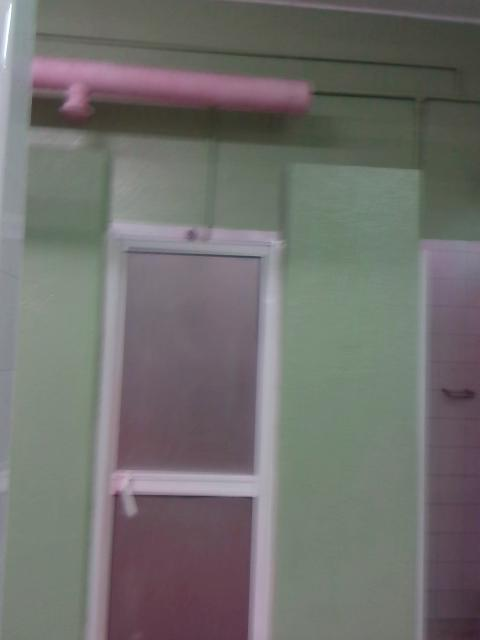closed_door: (80, 225, 282, 639)
